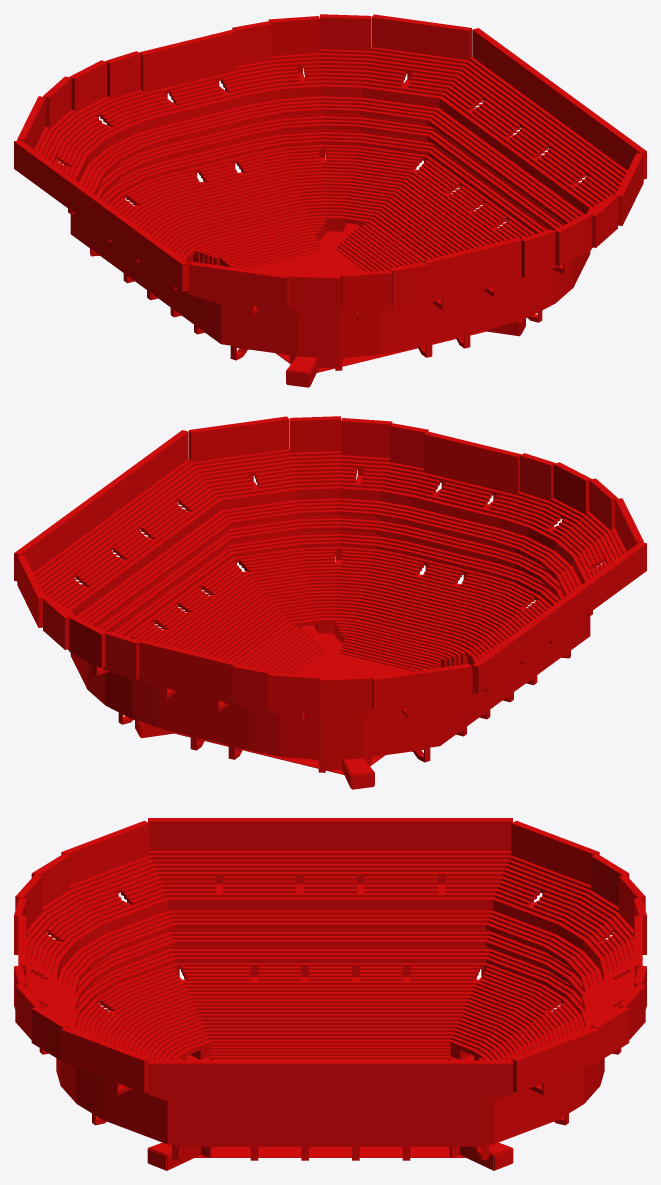
The model's file is StadiumCollider.fbx.
The picture shows the model from 3 angles, top to bottom: view 1: azimuth 30°, elevation 25°; view 2: azimuth 150°, elevation 25°; view 3: azimuth 270°, elevation 25°; orthographic projection. The views are drawn at different scales.
Parts seen in each view (by area): view 1: StadiumTopCollision, StadiumMiddleCollision, StadiumBaseCollision; view 2: StadiumTopCollision, StadiumMiddleCollision, StadiumBaseCollision; view 3: StadiumTopCollision, StadiumMiddleCollision, StadiumBaseCollision.
Boxes of the visible parts, bbox=[...] form: StadiumTopCollision: bbox=[14, 14, 646, 322]; StadiumMiddleCollision: bbox=[70, 86, 590, 356]; StadiumBaseCollision: bbox=[90, 144, 542, 387]; StadiumTopCollision: bbox=[14, 416, 646, 724]; StadiumMiddleCollision: bbox=[70, 488, 590, 758]; StadiumBaseCollision: bbox=[118, 546, 570, 789]; StadiumTopCollision: bbox=[14, 818, 646, 1109]; StadiumMiddleCollision: bbox=[56, 899, 604, 1144]; StadiumBaseCollision: bbox=[75, 963, 585, 1170].
Bounding box in the file's own units: 11492 × 3703 × 12513.
